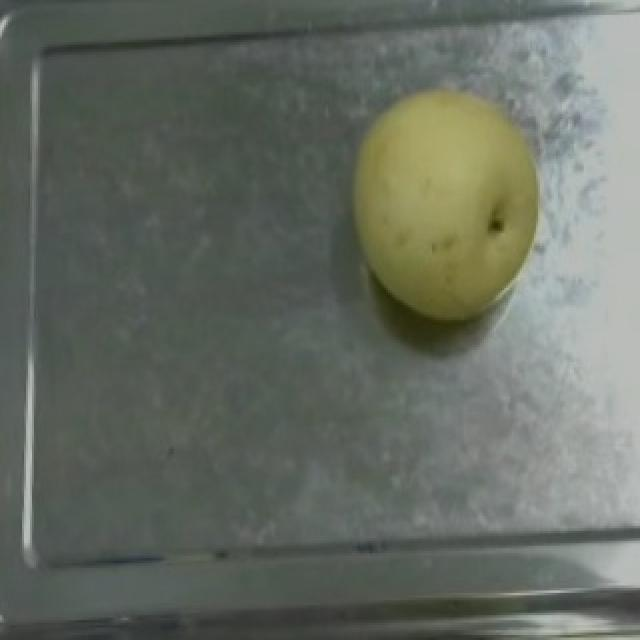Fruit: (334, 72, 554, 332)
